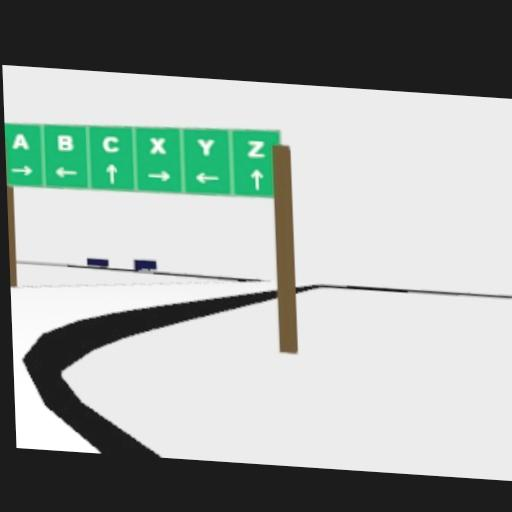A: (11, 131, 32, 153)
B: (56, 132, 77, 154)
C: (100, 132, 120, 154)
Left: (193, 169, 221, 186), (54, 163, 80, 179)
Right: (146, 167, 172, 183), (10, 161, 34, 177)
Straight: (249, 166, 265, 192), (105, 162, 120, 186)
X: (148, 134, 168, 155)
Y: (195, 135, 217, 158)
Z: (245, 137, 266, 160)
